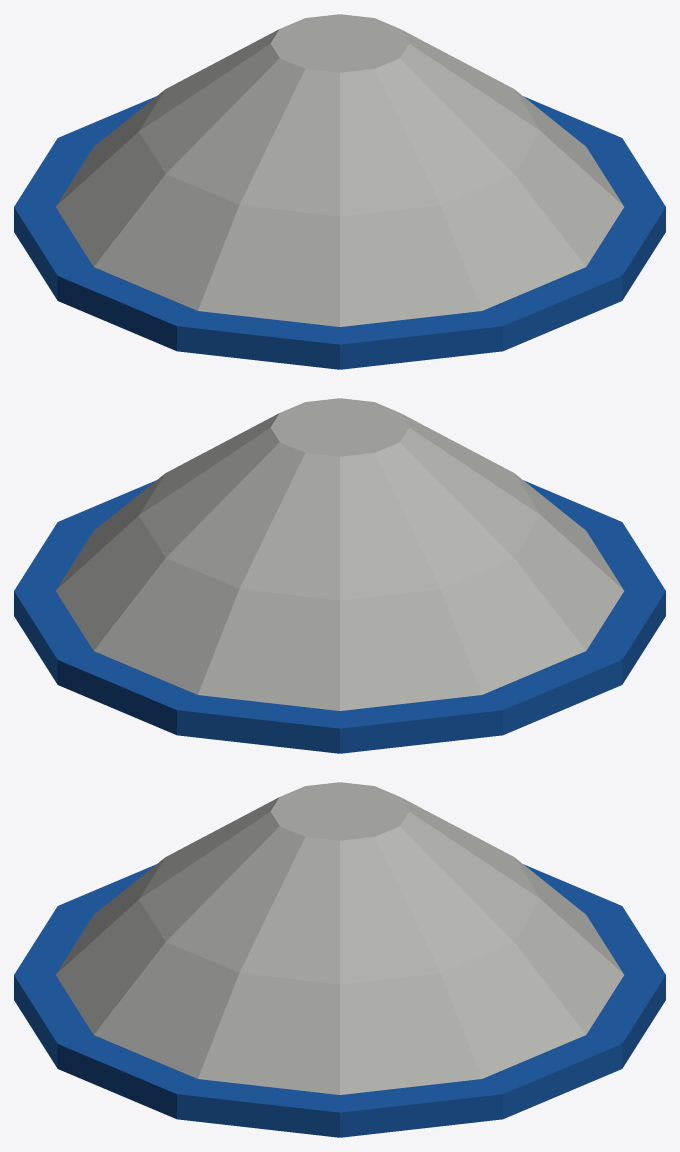
Rendered from civilian_fairing.glb.
3 views of the same model, one above another, from view 1: azimuth 30°, elevation 25°; view 2: azimuth 150°, elevation 25°; view 3: azimuth 270°, elevation 25° (orthographic).
Size of the model in its own units: 0.47 by 0.15 by 0.47.
